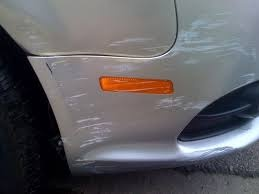Dent: (79, 137, 180, 162)
Scratch: (47, 17, 239, 133)
